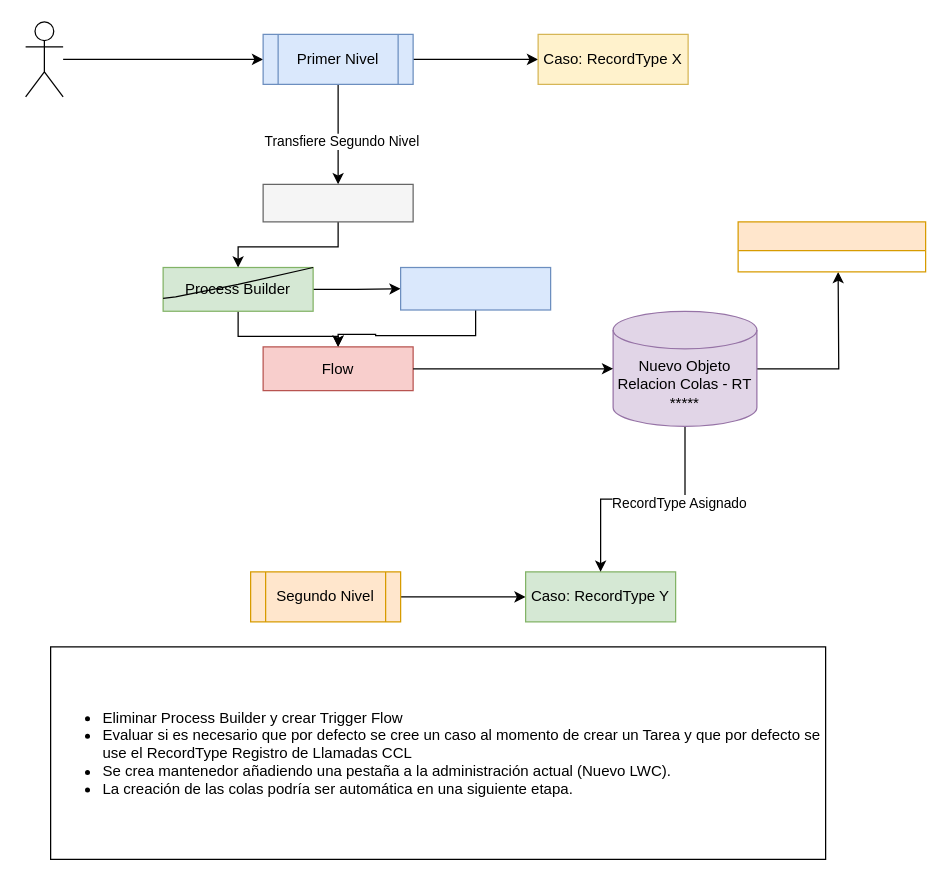
This 948x881 diagram has some shape labels left out. Here are the shapes that lost their labels. From the top down, the centre of each, then its label:
pixel 43 59: Cliente
pixel 337 202: Crea la Tarea
pixel 831 246: Mantenedor
pixel 475 288: Nuevo Trigger Flow
